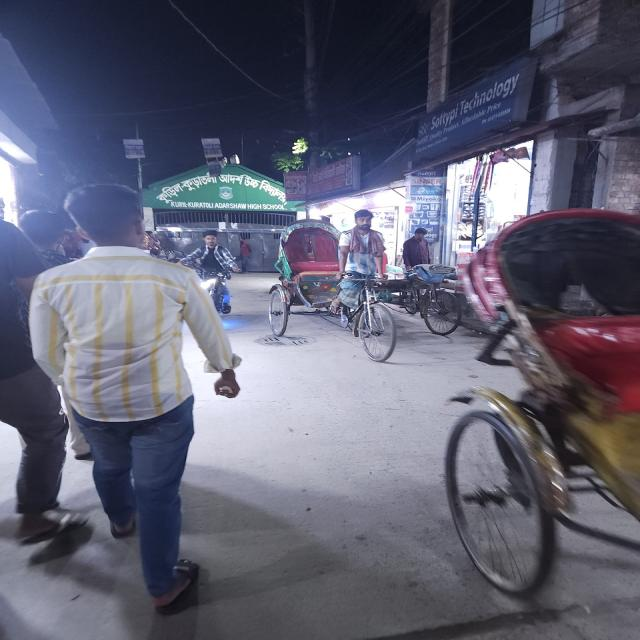pedestrian: (25, 186, 227, 606)
rickshaw: (444, 200, 640, 612), (266, 212, 402, 365)
